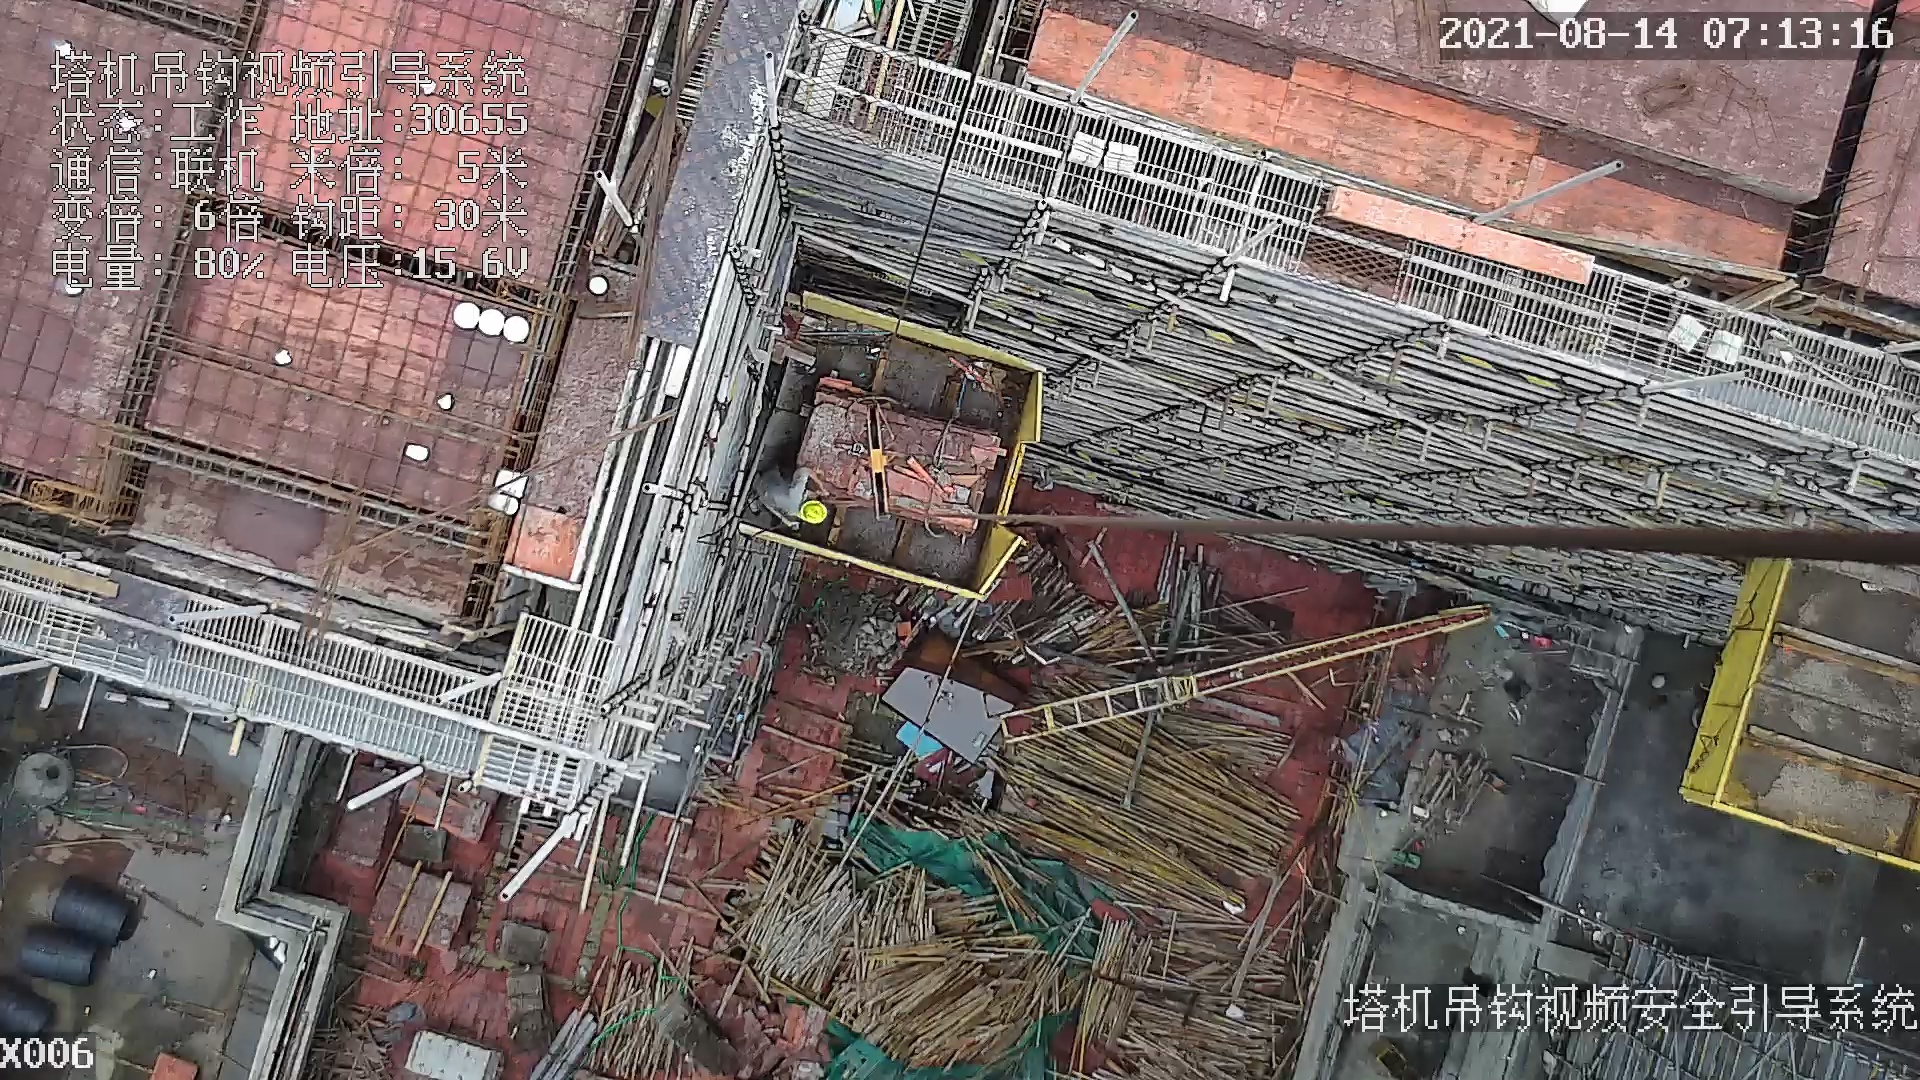helmet: (799, 499, 829, 524)
hook: (859, 400, 897, 524)
person: (750, 465, 837, 537)
